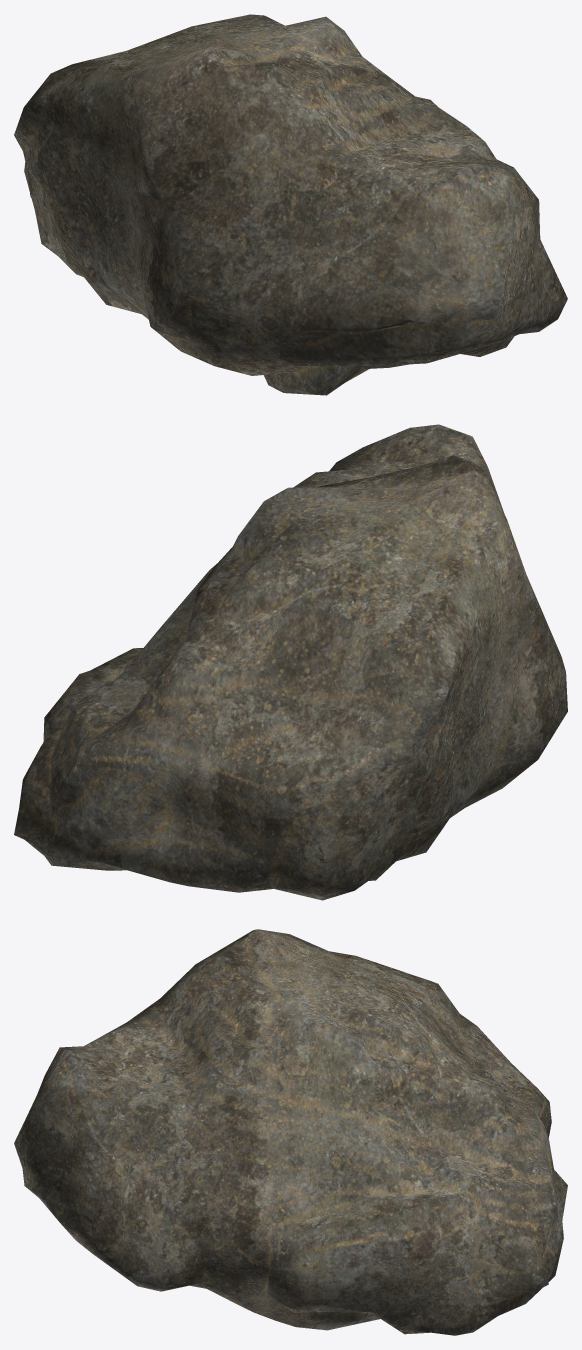
File: Rock2.obj
The picture shows the model from 3 angles, top to bottom: view 1: azimuth 30°, elevation 25°; view 2: azimuth 150°, elevation 25°; view 3: azimuth 270°, elevation 25°; orthographic projection. The views are drawn at different scales.
Parts seen in each view (by area): view 1: Rock_2; view 2: Rock_2; view 3: Rock_2.
Boxes of the visible parts, bbox=[...] form: Rock_2: bbox=[14, 14, 567, 395]; Rock_2: bbox=[14, 424, 567, 900]; Rock_2: bbox=[14, 929, 567, 1335].
Bounding box in the file's own units: 0.4485 × 0.4063 × 0.6576.
